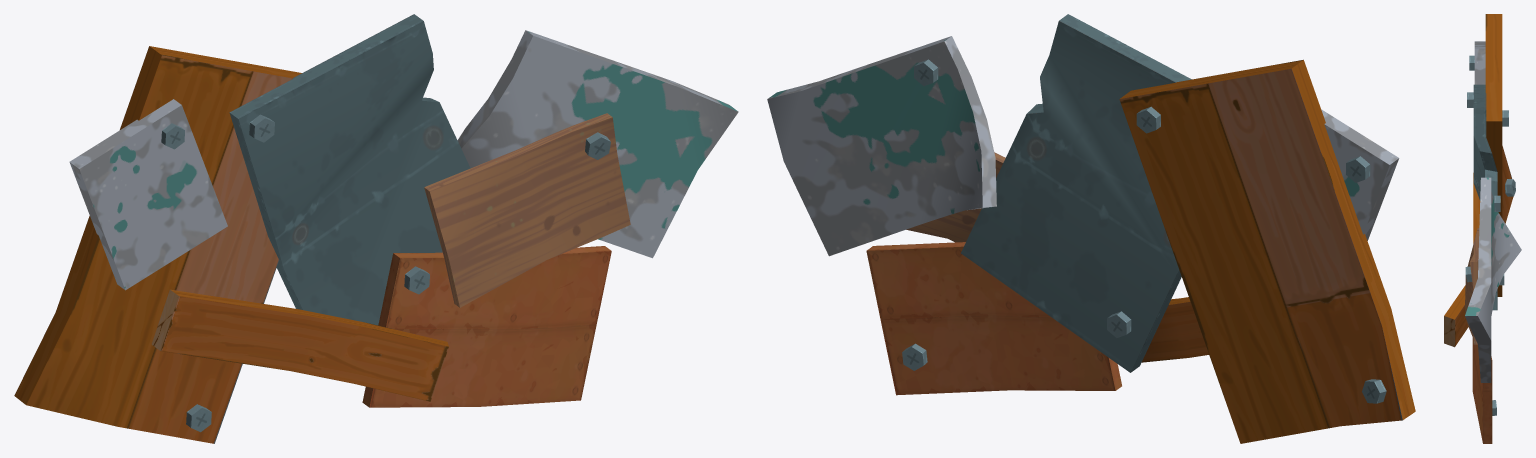
The model's file is env_hideout_wallscrap03.fbx.
The picture shows the model from 3 angles, left to right: view 1: azimuth 30°, elevation 25°; view 2: azimuth 150°, elevation 25°; view 3: azimuth 270°, elevation 25°; orthographic projection. The views are drawn at different scales.
Visible parts, largest first — view 1: wall3; view 2: wall3; view 3: wall3.
Part boxes in pixels (bbox=[...]): wall3: bbox=[14, 14, 738, 443]; wall3: bbox=[767, 14, 1415, 443]; wall3: bbox=[1444, 14, 1521, 443].
Bounding box in the file's own units: 58.16 × 36.02 × 8.62.
